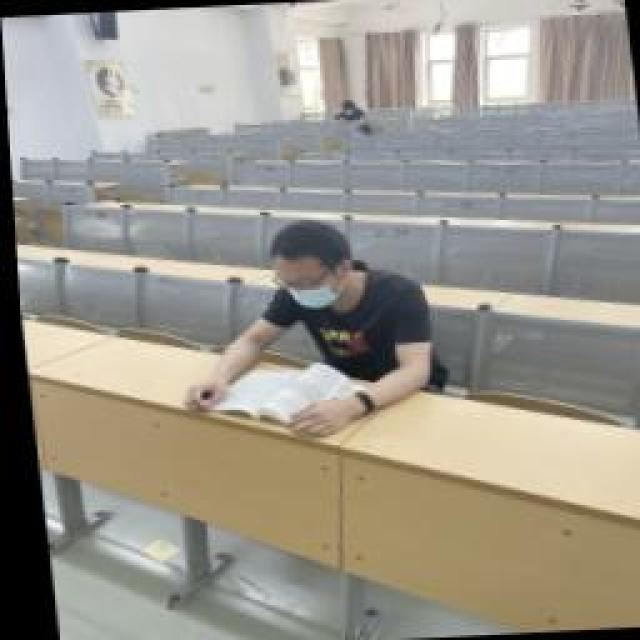study: (160, 215, 438, 443)
